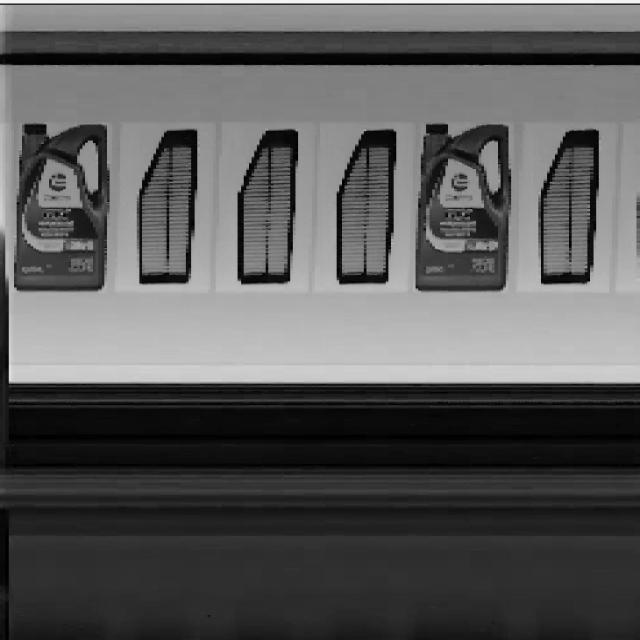air_filter: (329, 122, 400, 290), (234, 124, 304, 294), (134, 122, 204, 286), (537, 124, 604, 292)
motor_oil: (11, 121, 112, 292), (413, 125, 511, 293)
